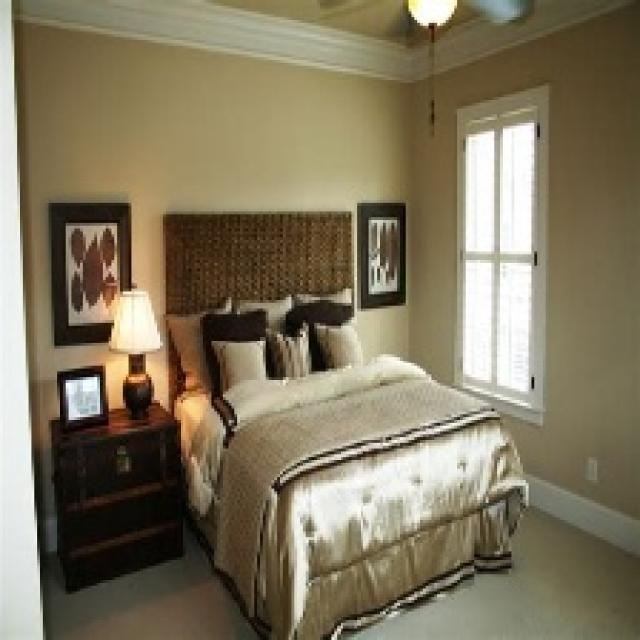Bed: (160, 209, 529, 637)
